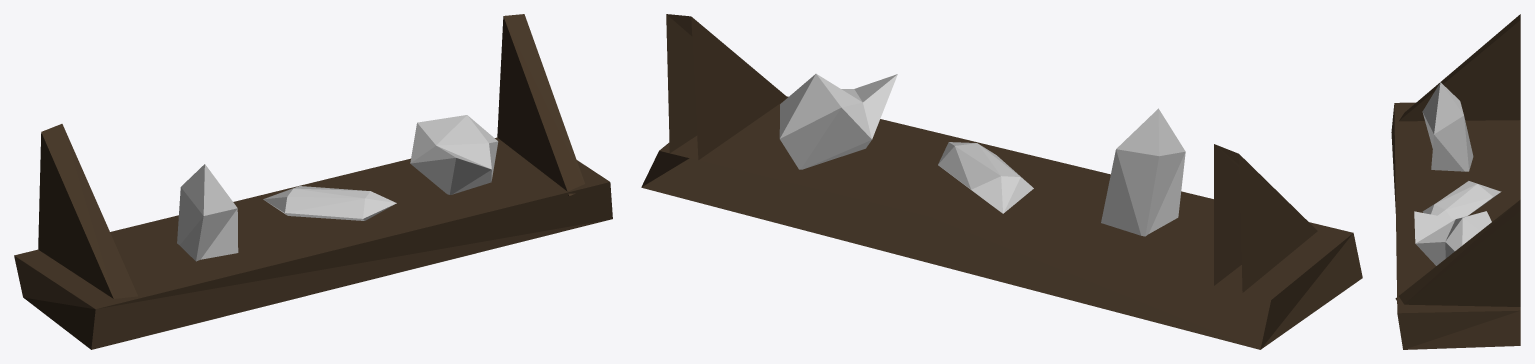
Rendered from NC_LOB_NICE.OBJ.
3 renders of one model, left to right at view 1: azimuth 30°, elevation 25°; view 2: azimuth 150°, elevation 25°; view 3: azimuth 270°, elevation 25°, orthographic. The views are drawn at different scales.
Parts seen in each view (by area): view 1: NC_LOB_NICE; view 2: NC_LOB_NICE; view 3: NC_LOB_NICE.
Part boxes in pixels (x1,y1,x2,y2): NC_LOB_NICE: (14,14,612,349); NC_LOB_NICE: (641,14,1362,349); NC_LOB_NICE: (1391,14,1520,349).
Bounding box in the file's own units: 1.76 × 0.5198 × 0.4434.
